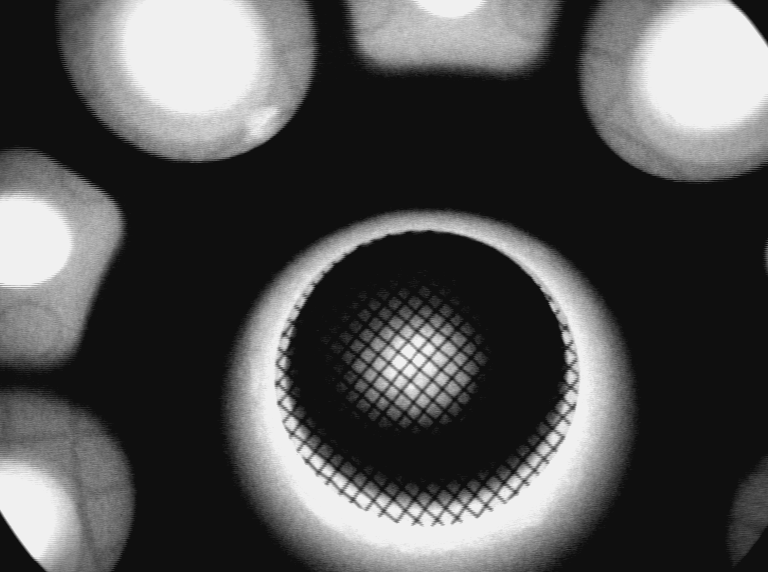defect: (241, 100, 290, 146)
